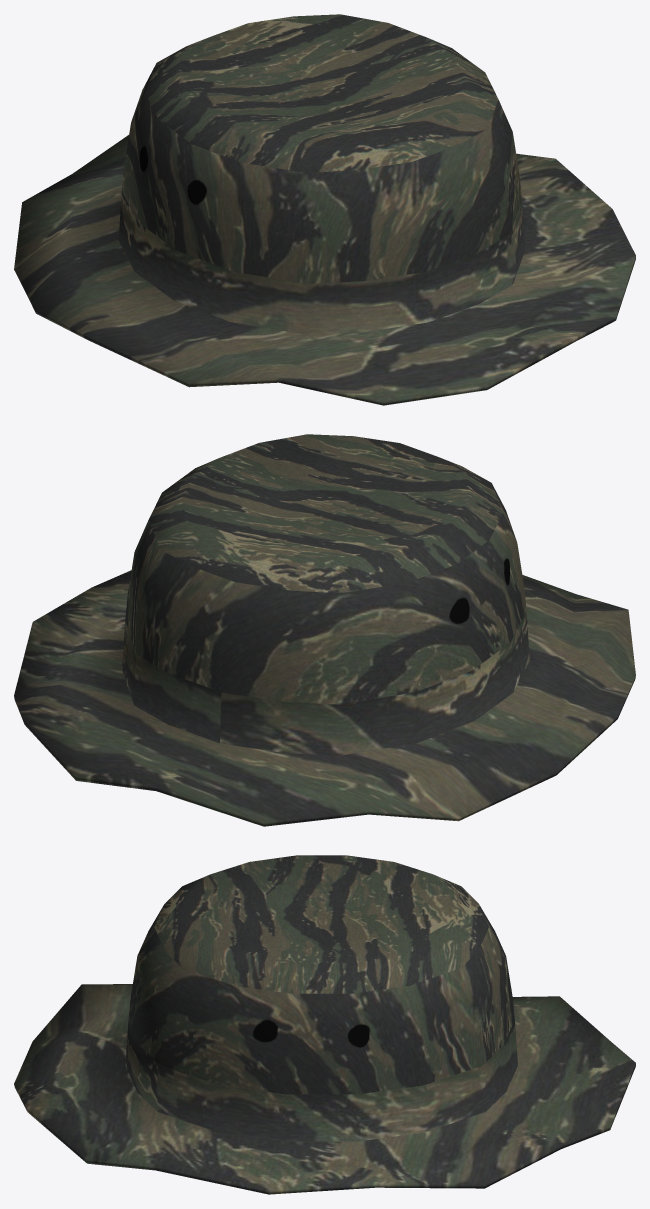
Rendered from BoonieHat_WorldItem.fbx.
3 renders of one model, top to bottom at view 1: azimuth 30°, elevation 25°; view 2: azimuth 150°, elevation 25°; view 3: azimuth 270°, elevation 25°, orthographic. The views are drawn at different scales.
Parts seen in each view (by area): view 1: Circle.002; view 2: Circle.002; view 3: Circle.002.
Part boxes in pixels (bbox=[...]): Circle.002: bbox=[14, 14, 635, 405]; Circle.002: bbox=[14, 434, 635, 826]; Circle.002: bbox=[14, 855, 635, 1194].
Bounding box in the file's own units: 0.4214 × 0.1575 × 0.4647.
